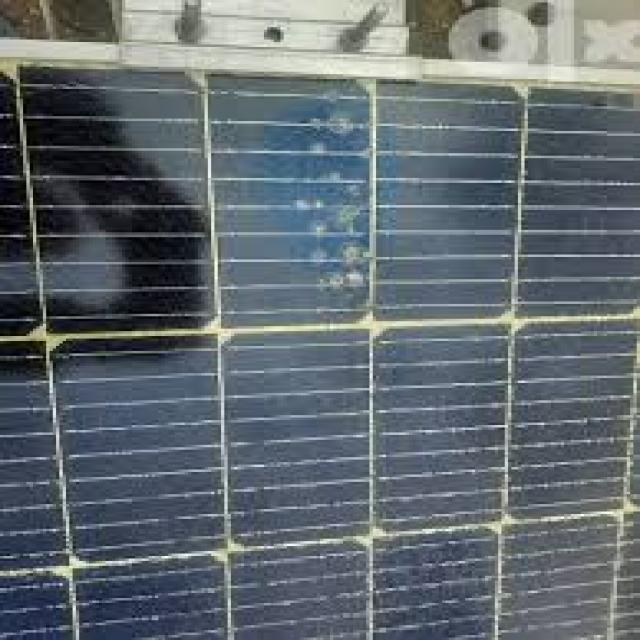faulty: (3, 64, 640, 640)
